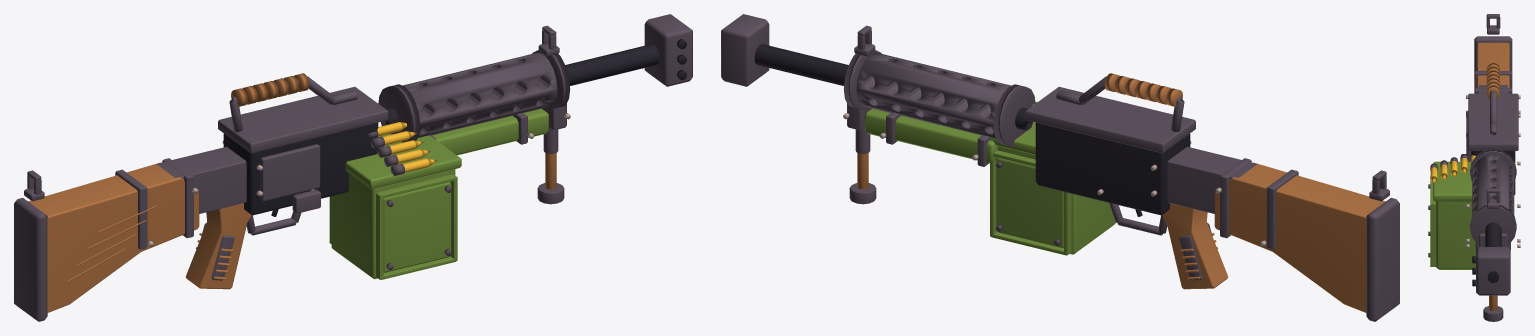
The model's file is wpn.machine-gun.glb.
3 renders of one model, left to right at view 1: azimuth 30°, elevation 25°; view 2: azimuth 150°, elevation 25°; view 3: azimuth 270°, elevation 25°, orthographic. The views are drawn at different scales.
Visible parts, largest first — view 1: object 2, body; view 2: object 2, body; view 3: object 2, body.
Part boxes in pixels (left/top/right/bottom): object 2: left=14, top=14, right=692, bottom=321; body: left=223, top=39, right=686, bottom=215; object 2: left=721, top=14, right=1399, bottom=321; body: left=754, top=44, right=1190, bottom=215; object 2: left=1428, top=14, right=1520, bottom=321; body: left=1471, top=151, right=1515, bottom=286.
Bounding box in the file's own units: 1.48 × 0.408 × 0.2385.
